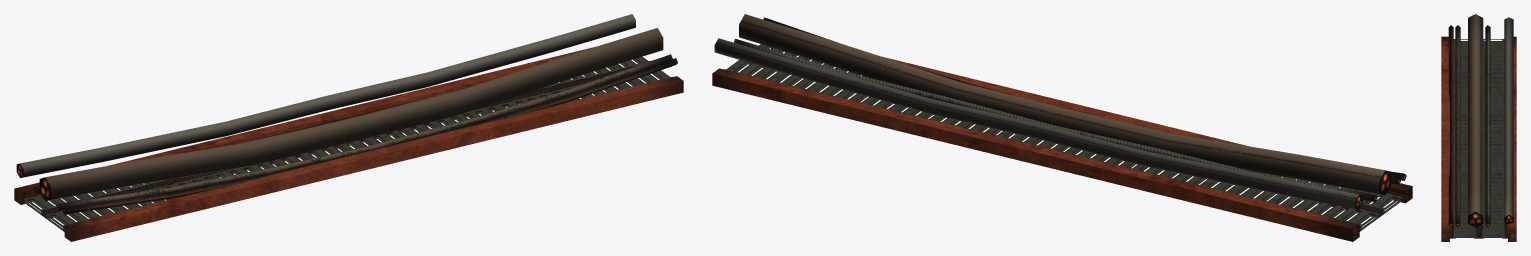
The model's file is multi_cable_hanging_03.dae.
The picture shows the model from 3 angles, left to right: view 1: azimuth 30°, elevation 25°; view 2: azimuth 150°, elevation 25°; view 3: azimuth 270°, elevation 25°; orthographic projection. The views are drawn at different scales.
Visible parts, largest first — view 1: polySurface17, polySurface18, pPlane2, pPlane1; view 2: polySurface17, polySurface18, pPlane2, pPlane1; view 3: polySurface17, pPlane2, polySurface18, pPlane1.
Part boxes in pixels (x1,y1,x2,y2): polySurface17: (16, 14, 677, 214); polySurface18: (14, 47, 683, 241); pPlane2: (18, 56, 672, 230); pPlane1: (18, 58, 662, 234); polySurface17: (714, 14, 1406, 209); polySurface18: (712, 48, 1412, 241); pPlane2: (723, 44, 1407, 230); pPlane1: (734, 46, 1407, 234); polySurface17: (1448, 14, 1513, 227); pPlane2: (1446, 39, 1512, 236); polySurface18: (1441, 36, 1516, 241); pPlane1: (1446, 41, 1512, 238).
Bounding box in the file's own units: 4 × 0.2861 × 0.6437.
